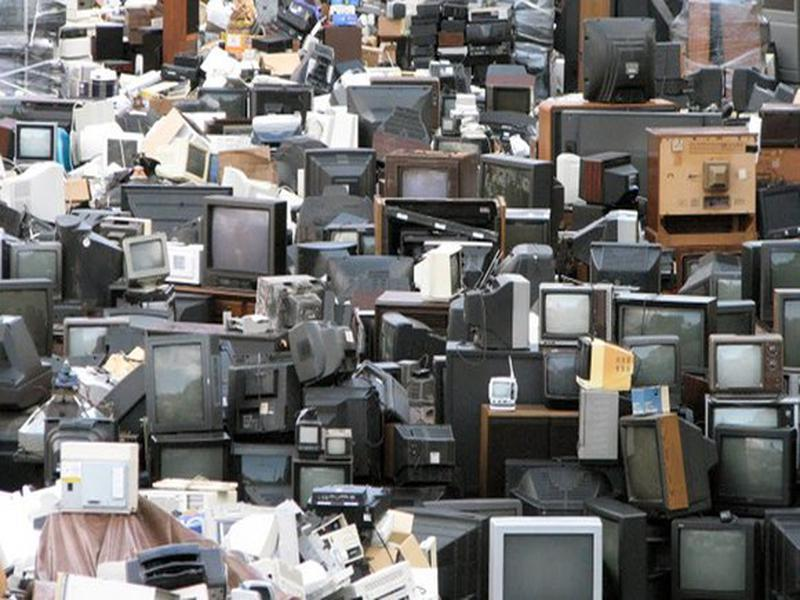tv_pc: (483, 509, 607, 600), (612, 408, 719, 512), (194, 195, 295, 292), (139, 330, 232, 434), (671, 514, 770, 600), (708, 424, 798, 511), (574, 14, 660, 104), (285, 314, 365, 387), (705, 331, 789, 397), (535, 279, 615, 344), (145, 436, 237, 484), (573, 330, 636, 391), (120, 231, 179, 294), (8, 241, 72, 299), (627, 329, 684, 393), (538, 343, 598, 403), (10, 117, 61, 162)
